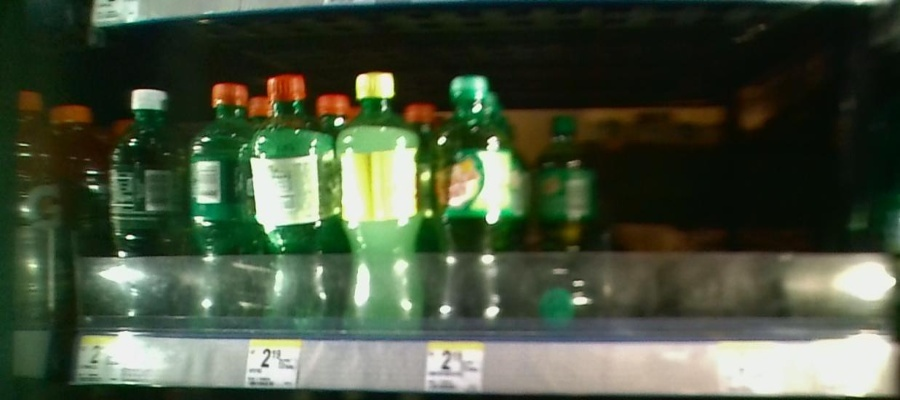bottle: (333, 66, 418, 326), (428, 64, 513, 322), (257, 73, 334, 327), (107, 88, 186, 325), (189, 76, 255, 329), (533, 102, 597, 275)
